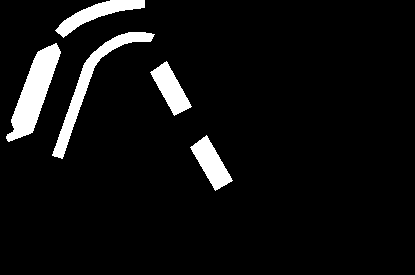parkingspot: (52, 32, 154, 158), (6, 43, 60, 141), (55, 0, 144, 37), (190, 135, 232, 190), (150, 61, 191, 115)
